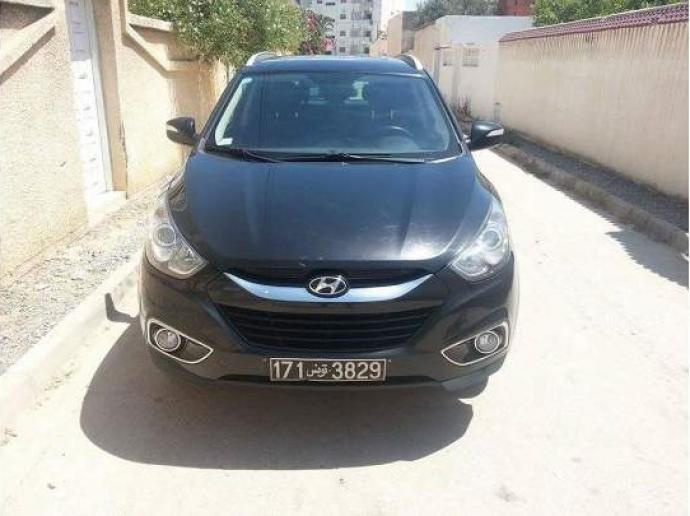LP: (267, 355, 388, 384)
